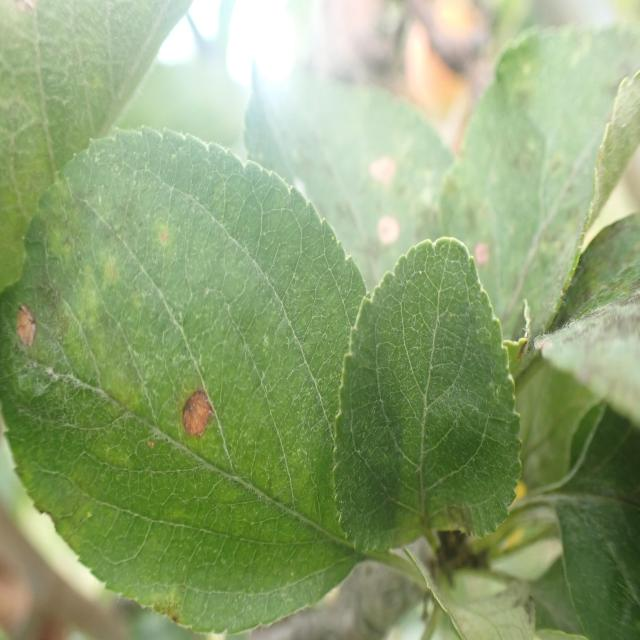frog-eye-leaf-spot: (0, 125, 368, 634)
